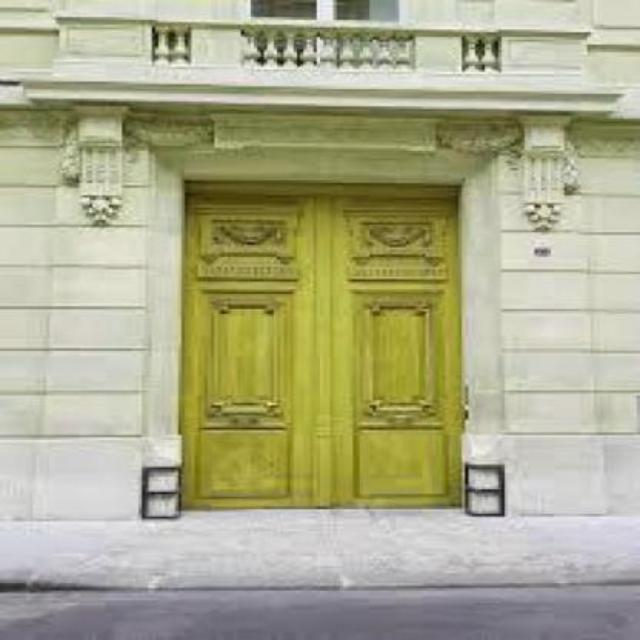door: (324, 191, 464, 508), (178, 187, 308, 510)
